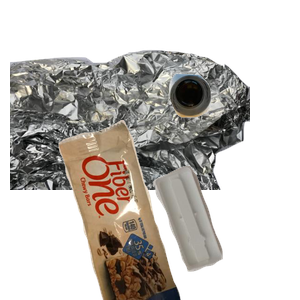glass: (166, 71, 300, 181)
metal: (10, 47, 250, 227)
plastic: (150, 163, 300, 300)
trash: (56, 120, 229, 300)
